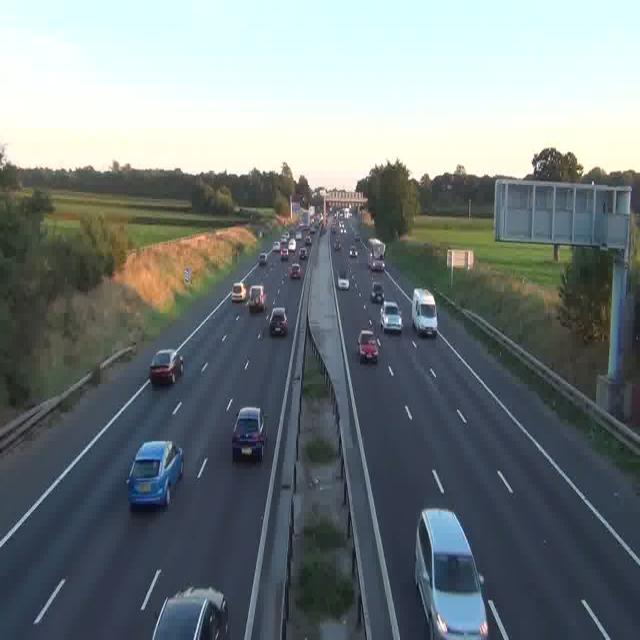car: (415, 507, 488, 640), (152, 587, 227, 640), (128, 441, 183, 508), (232, 406, 268, 461), (148, 349, 184, 386), (358, 330, 378, 362), (381, 302, 402, 332), (269, 307, 289, 336), (247, 285, 265, 311), (231, 283, 247, 302), (371, 285, 384, 306), (338, 276, 350, 292), (290, 265, 301, 278), (298, 248, 308, 261), (258, 252, 268, 265), (348, 245, 358, 258), (304, 236, 312, 248), (334, 240, 342, 251), (280, 250, 288, 261)
truck: (410, 290, 438, 335), (368, 238, 384, 270)
